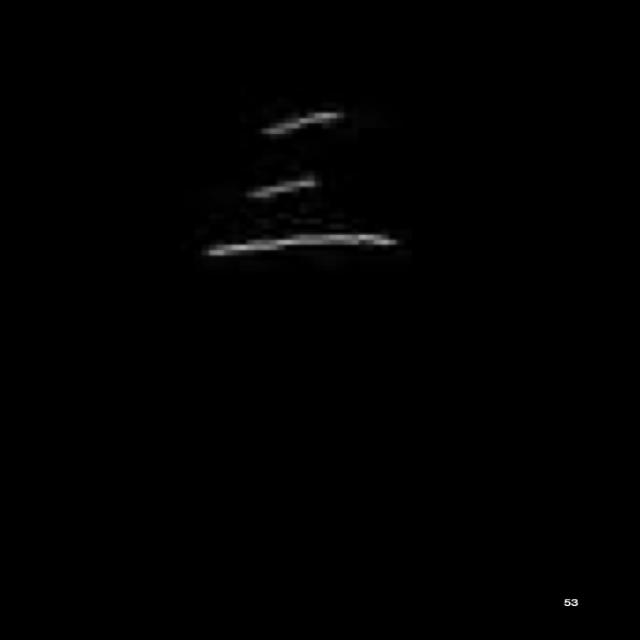3 -three-: (175, 89, 424, 270)
